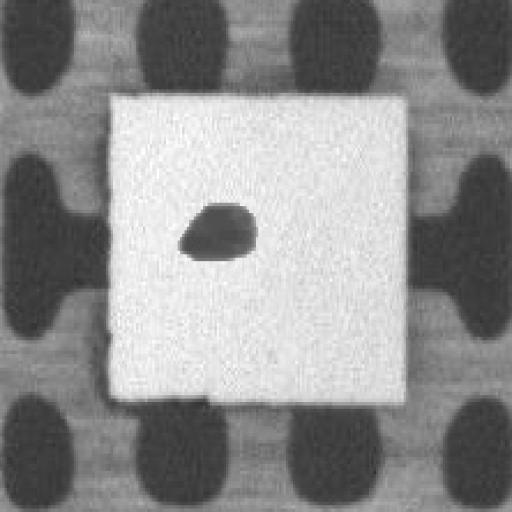DIE_INK: (254, 122, 395, 185)
